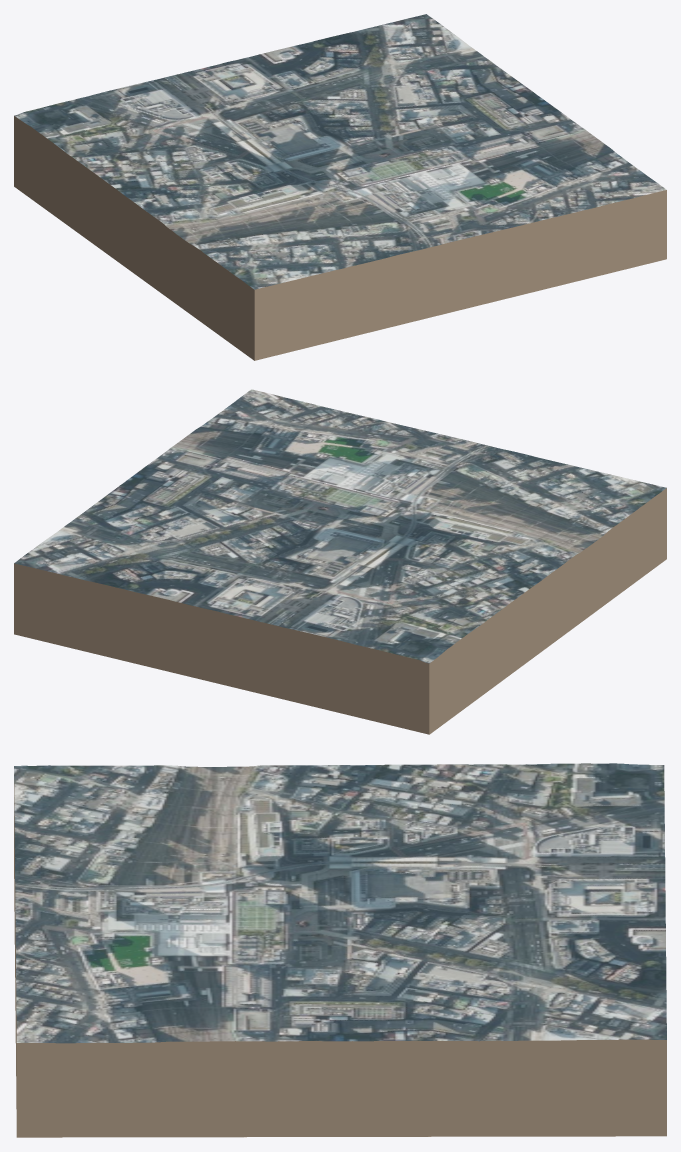
The model's file is terrain.glb.
The picture shows the model from 3 angles, top to bottom: view 1: azimuth 30°, elevation 25°; view 2: azimuth 150°, elevation 25°; view 3: azimuth 270°, elevation 25°; orthographic projection. The views are drawn at different scales.
Bounding box in the file's own units: 514 × 85.73 × 514.
2 materials, 1 textured.
